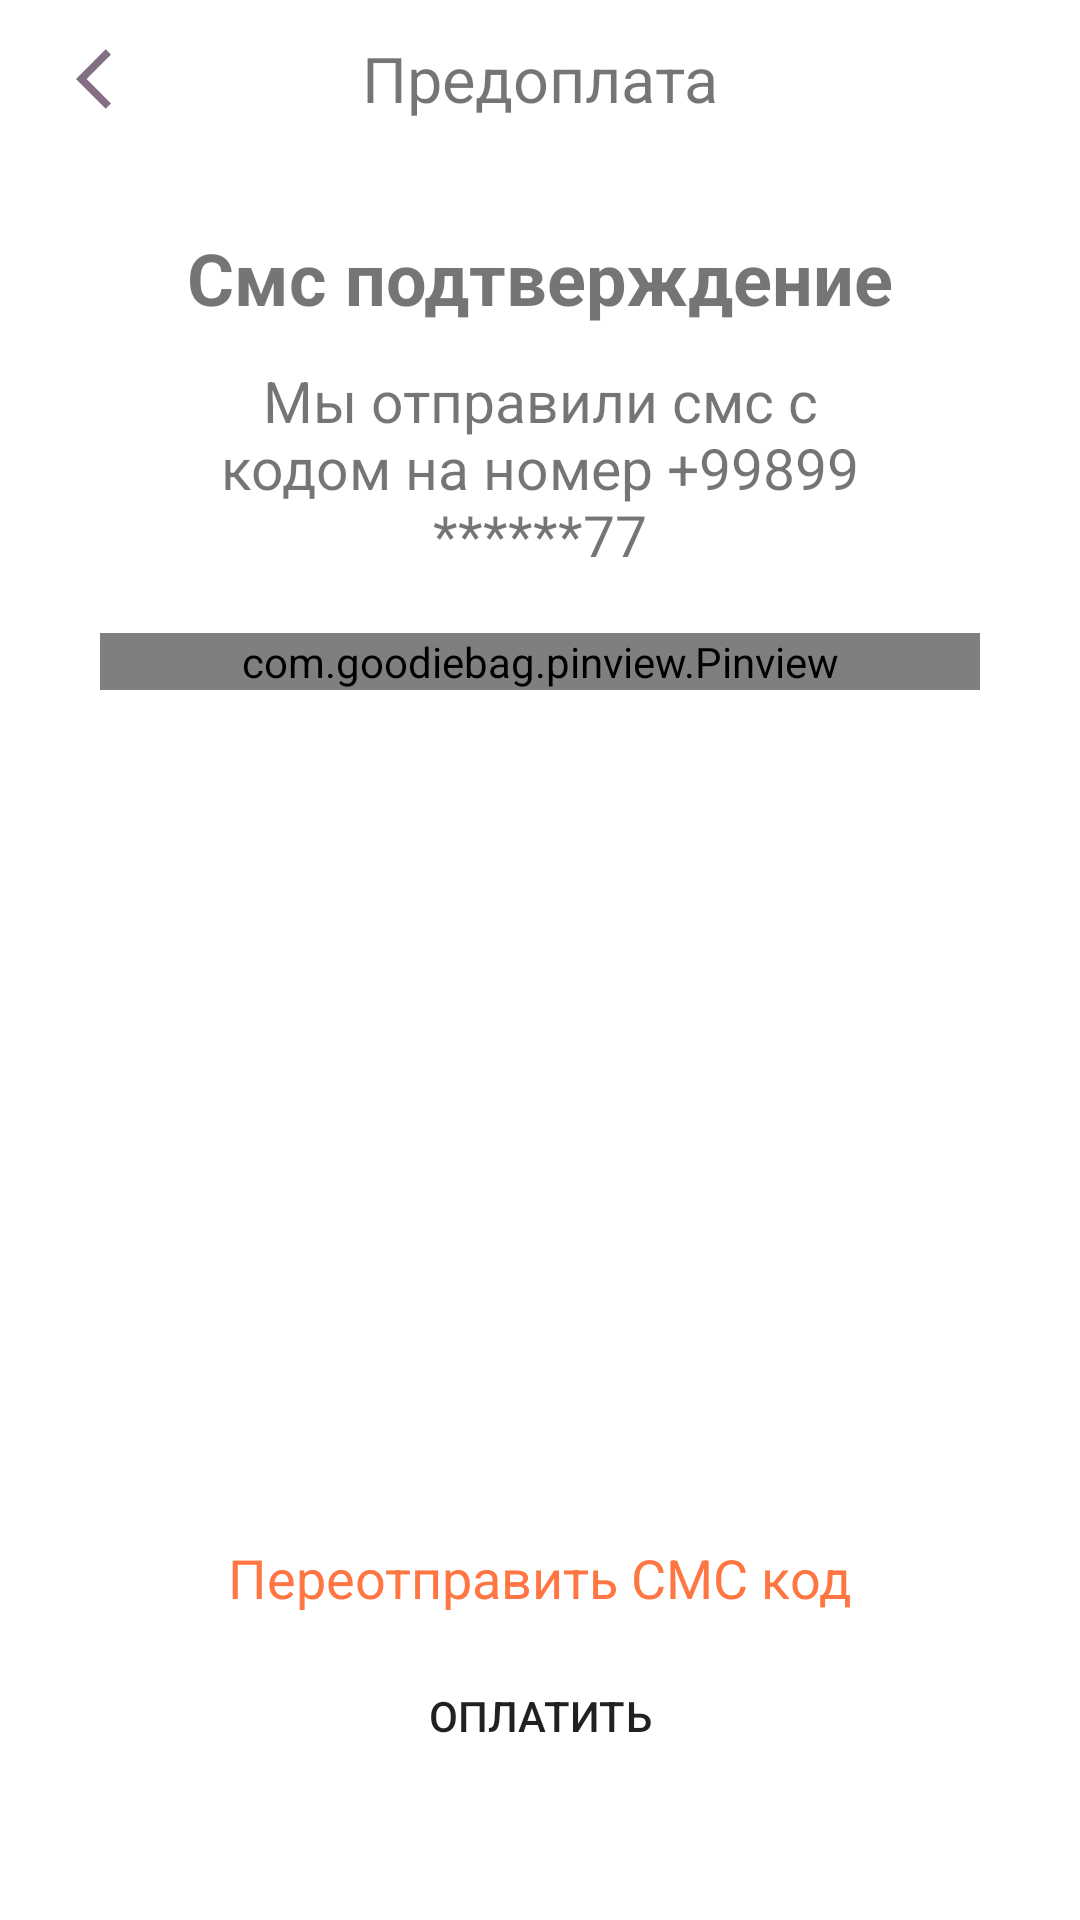

Icons on this 1080×1920 Android screen, each with its box as bbox(x1, y1, x2, y2):
back: bbox(76, 49, 111, 109)
